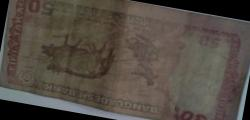50 taka: (11, 1, 241, 117)
